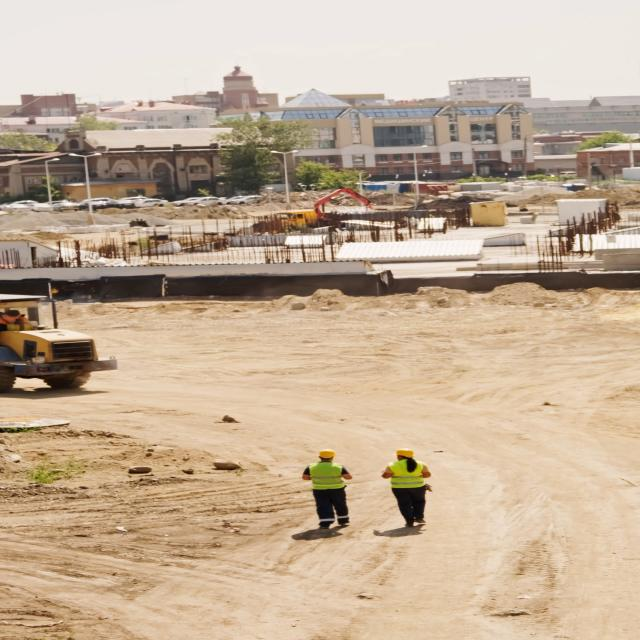worker: (296, 448, 359, 528), (382, 448, 436, 530)
